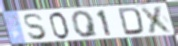0: (48, 11, 71, 40)
1: (96, 9, 112, 37)
D: (118, 6, 146, 36)
Q: (70, 9, 100, 39)
S: (22, 12, 49, 41)
X: (138, 5, 175, 34)
